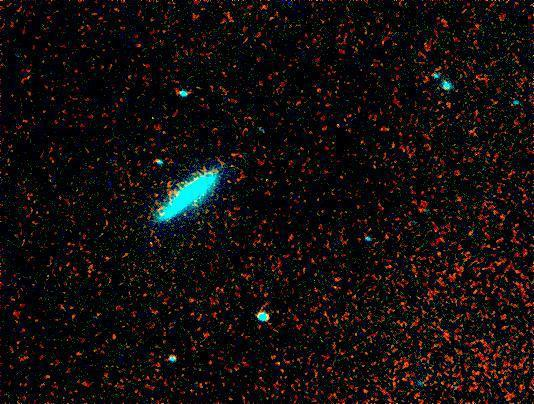star: (170, 202, 200, 232)
